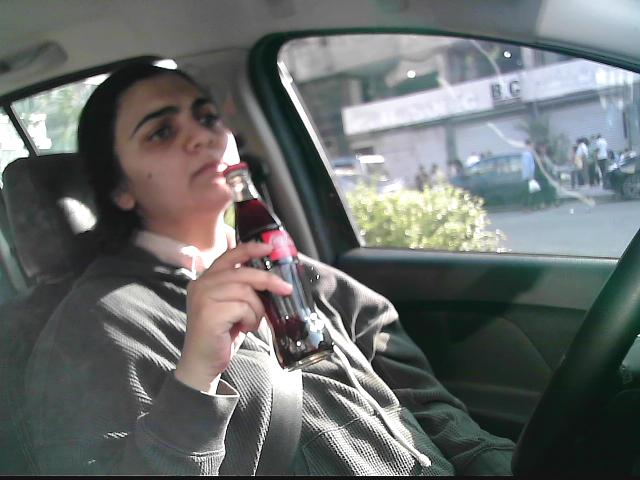Drinking: (110, 74, 332, 365)
